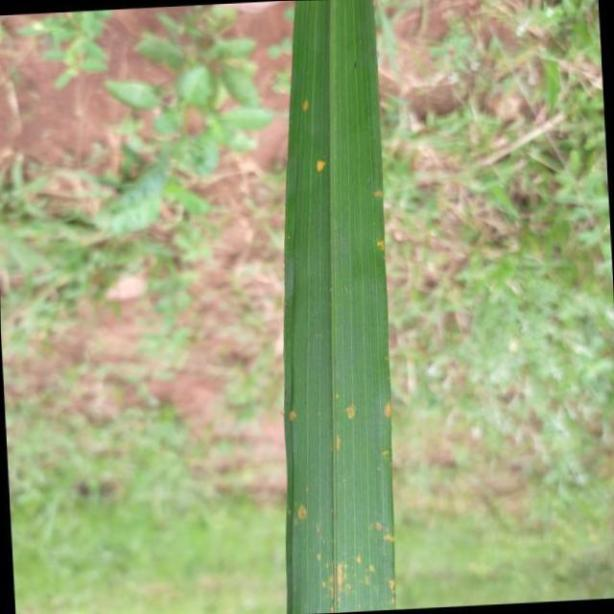Kalium: (280, 0, 398, 614)
